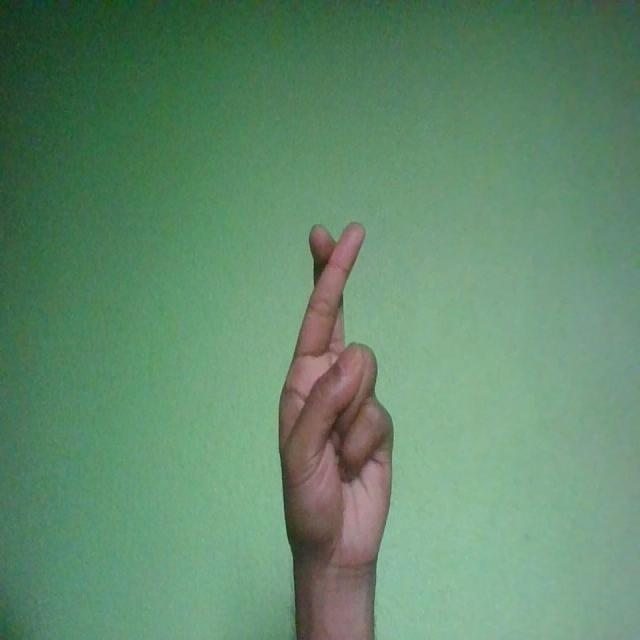Ok: (278, 221, 394, 578)
